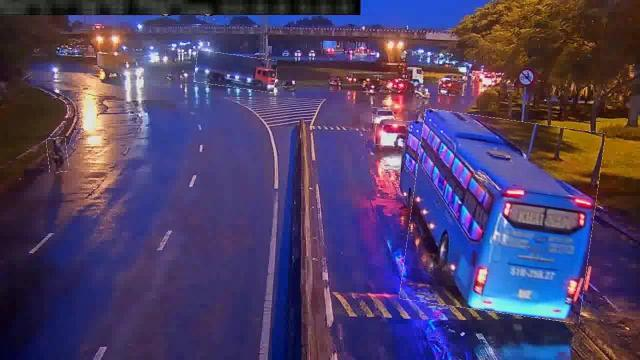Bike: (48, 138, 68, 172)
Bus: (406, 114, 598, 318)
Car: (376, 121, 410, 146), (438, 80, 464, 96), (372, 108, 393, 124)
Truck: (195, 54, 277, 90)
